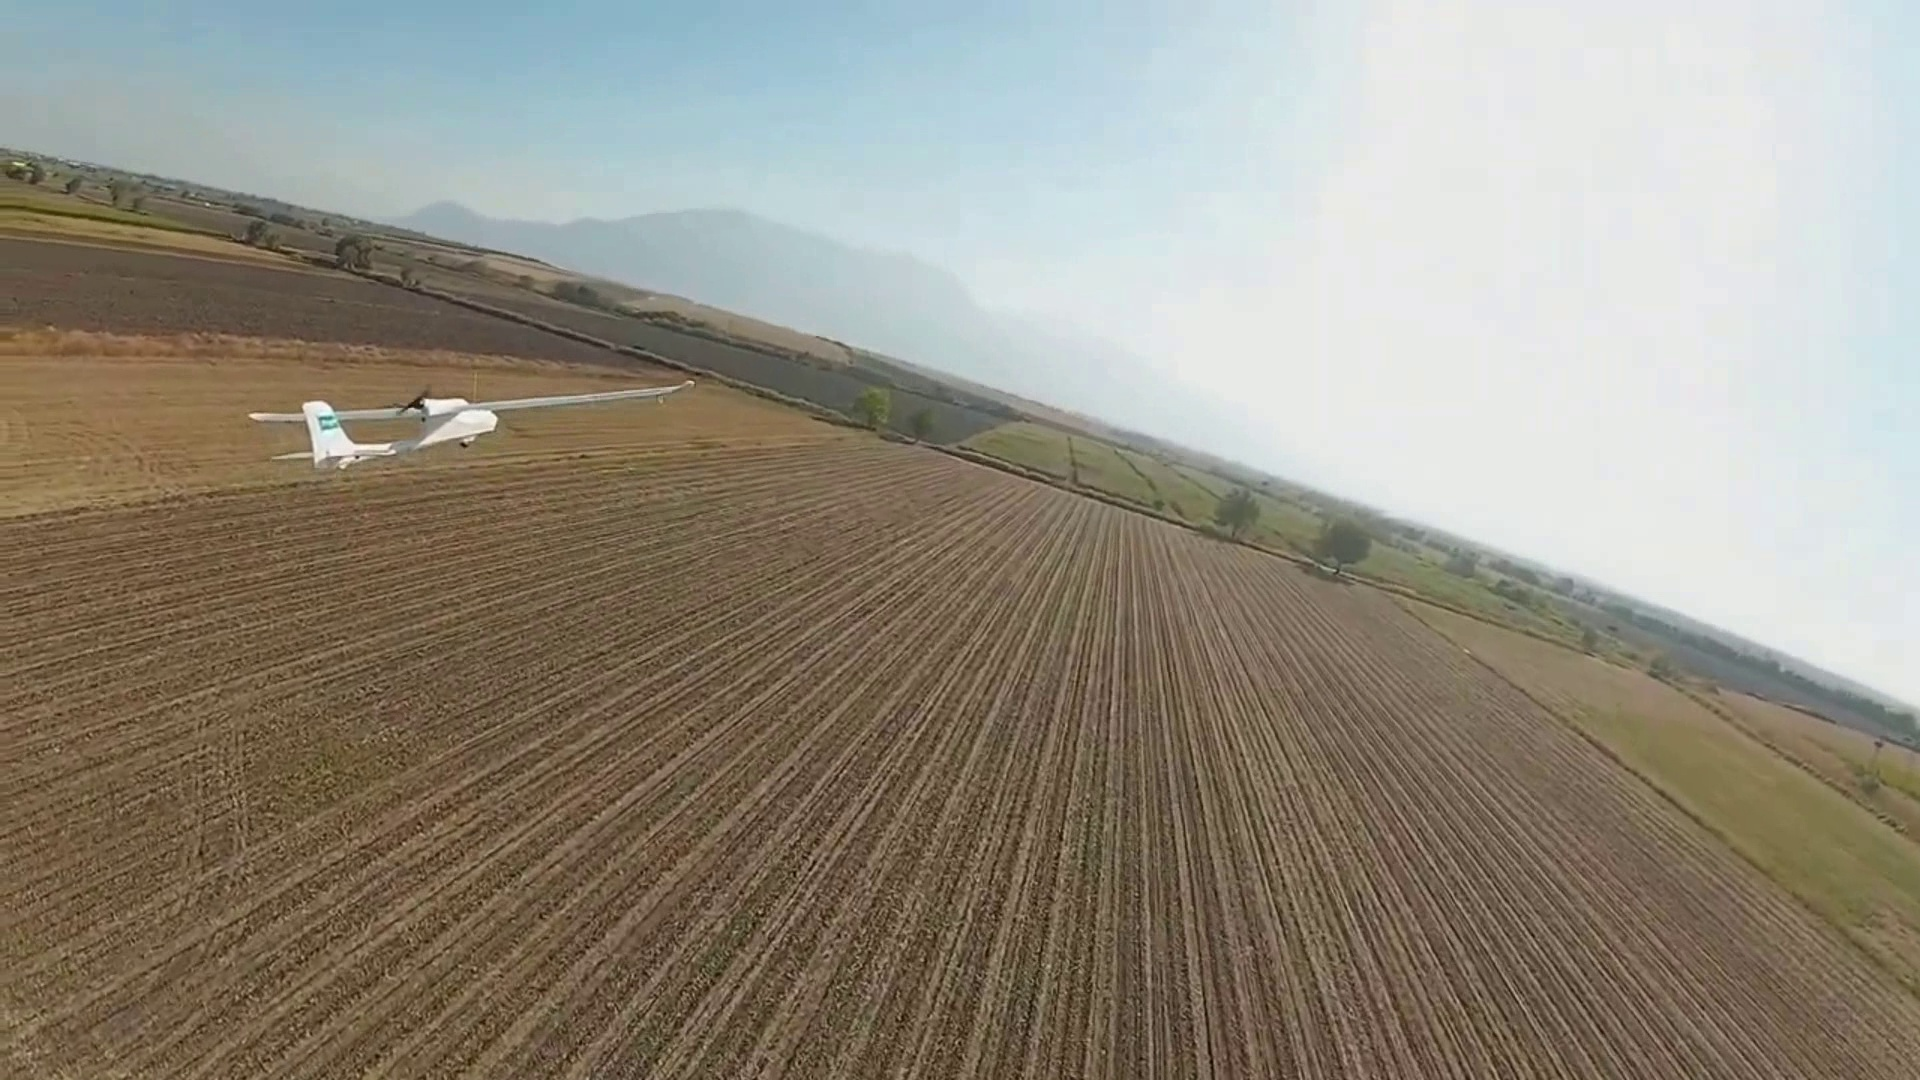airplane: (58, 230, 1911, 812), (246, 393, 499, 472), (322, 396, 499, 458)
